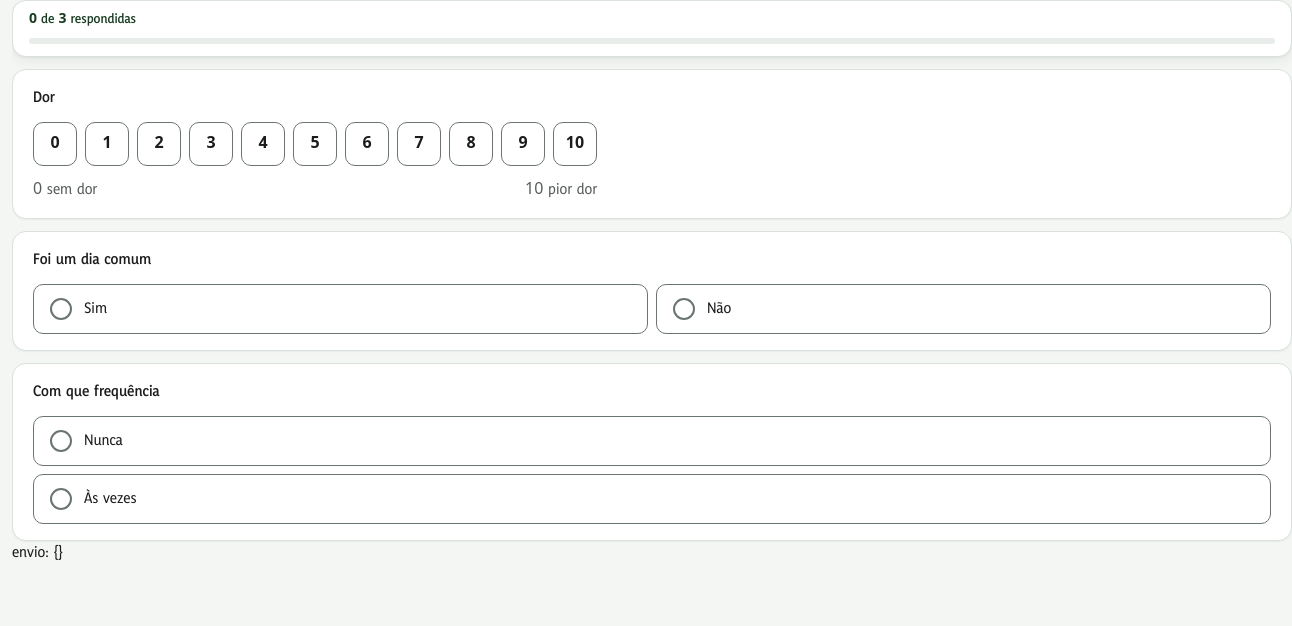
Test: ScaleForm com as opcoes em cartoes › a opcao escolhida ganha a marca de check e a borda mais grossa, alem da cor
This screenshot has width=1292, height=626.
Click the radio button labelled "Às vezes" at {"x": 652, "y": 499}, box [33,474,1271,524]
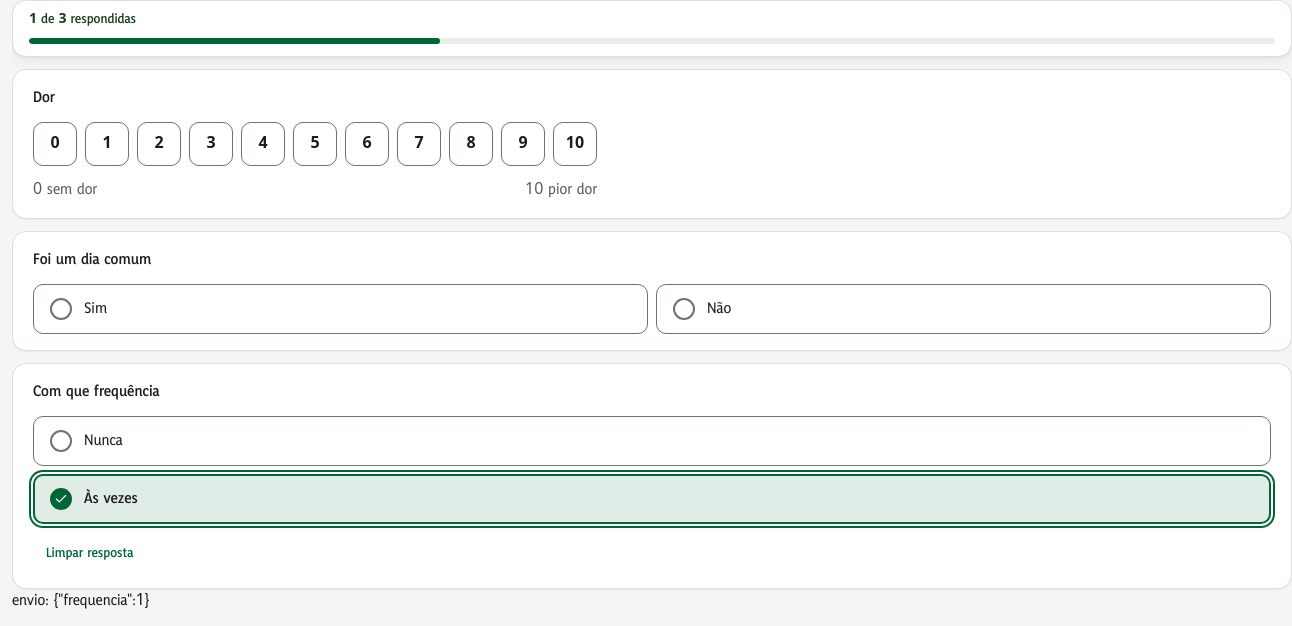
Expected: the radio button labelled "Às vezes" is checked, [33,474,1271,524]
Expected: the icon is shown, [54,492,68,506]
